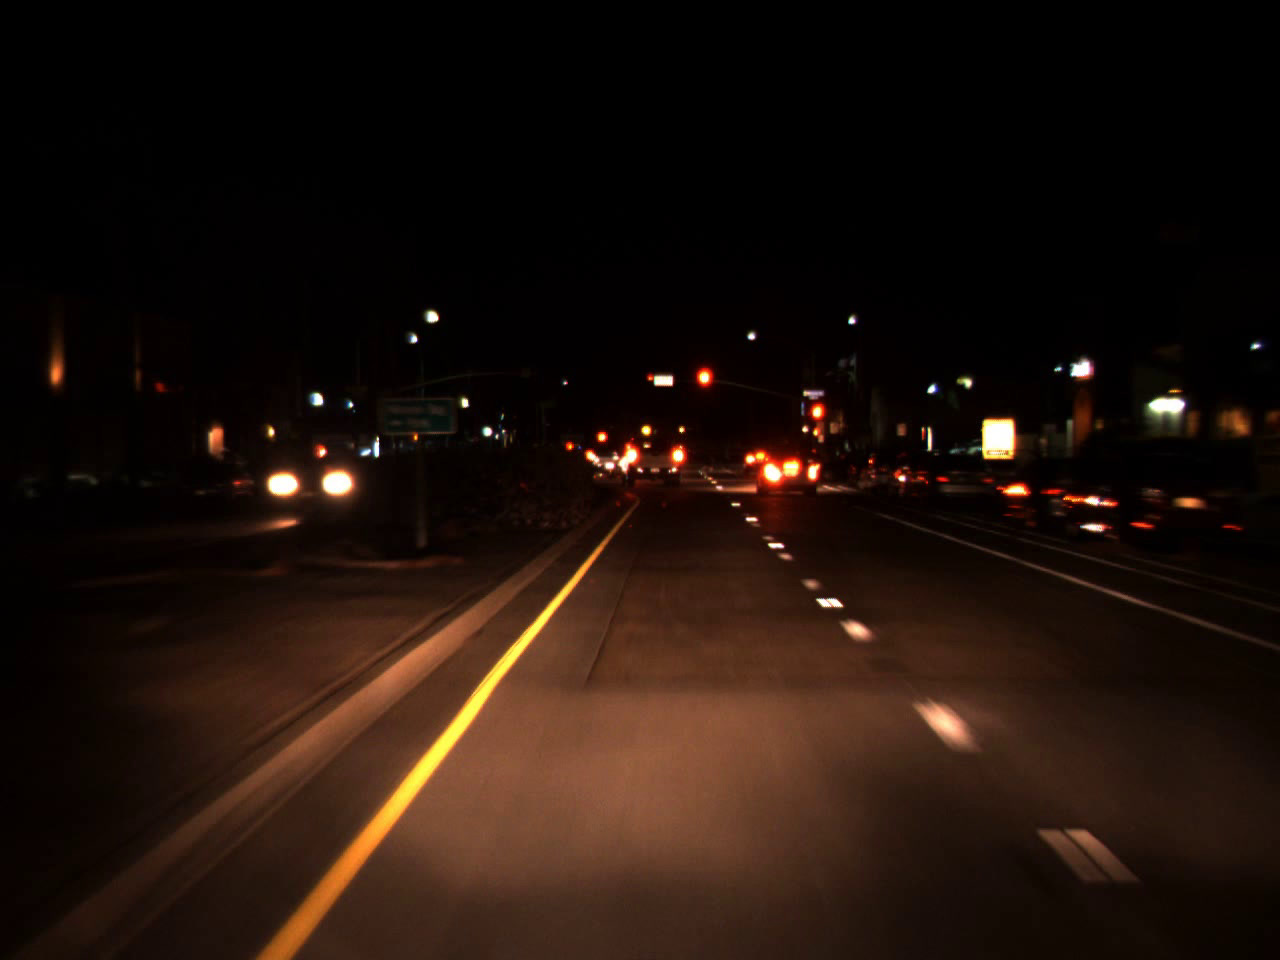stop: (693, 363, 715, 411), (807, 400, 826, 443), (646, 373, 655, 386)
